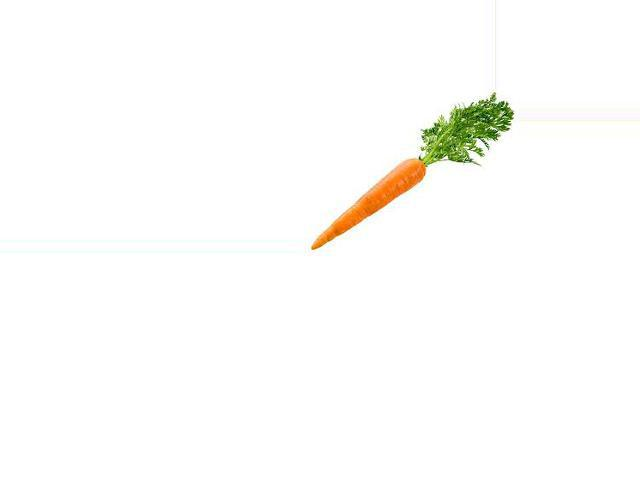carrot: (309, 156, 430, 253)
